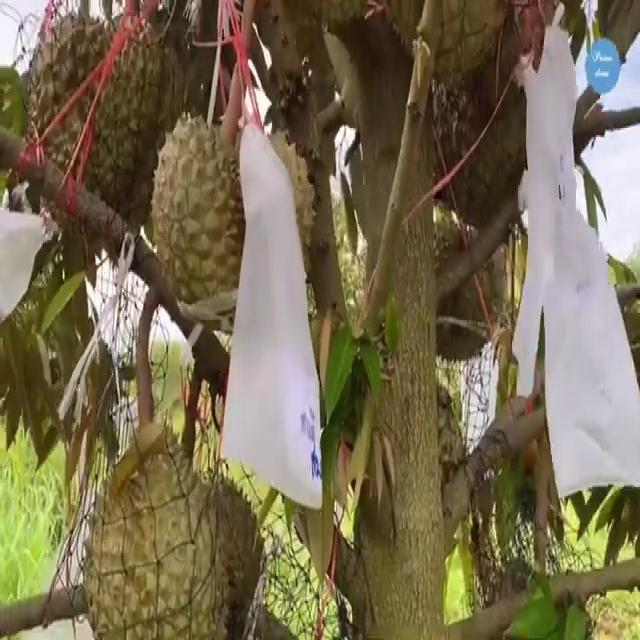durian: (20, 2, 197, 270), (75, 409, 266, 634), (144, 100, 318, 331), (385, 201, 512, 371)
